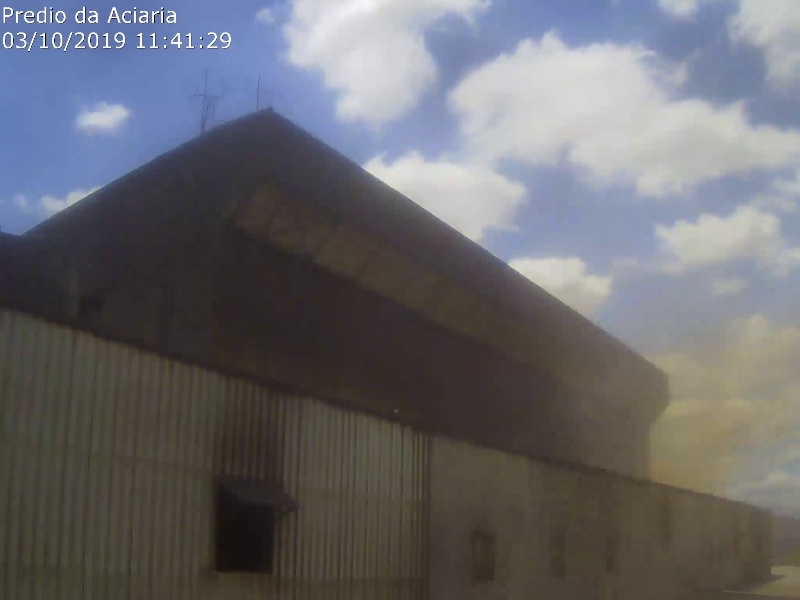bom: (4, 2, 286, 178)
ruim: (546, 244, 800, 500)
